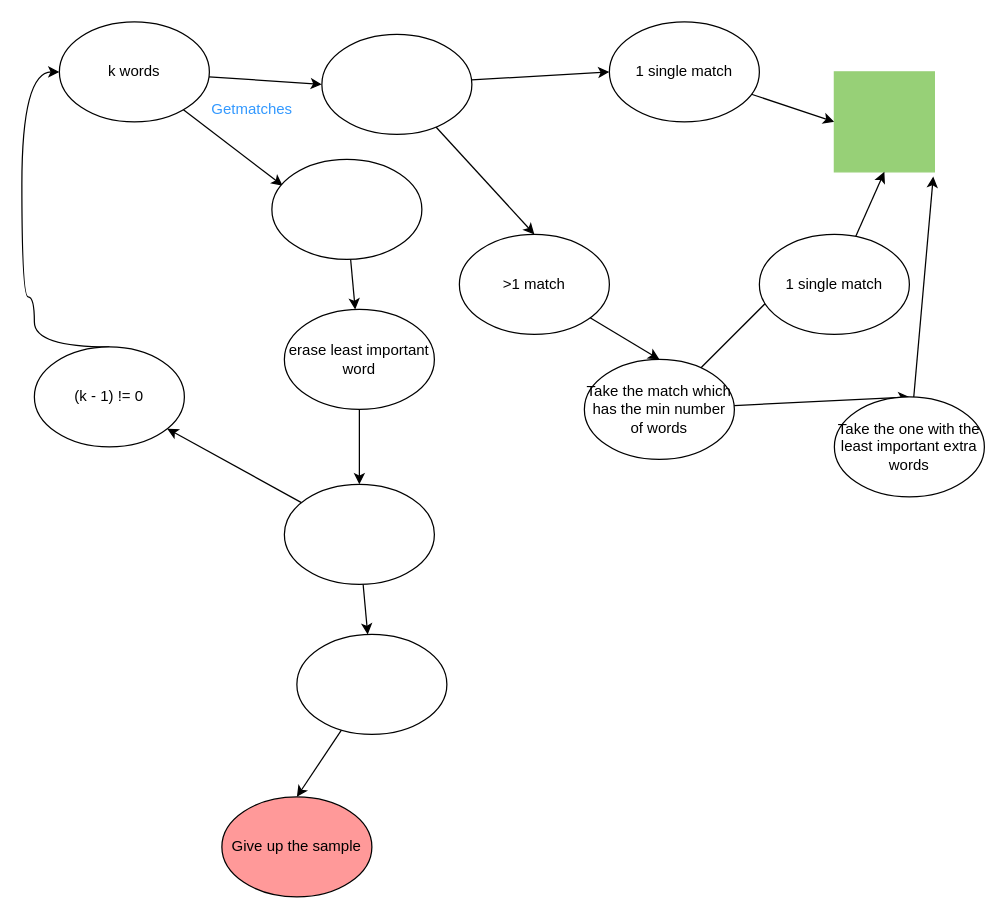
This 1006x919 diagram has some shape labels left out. Each missing label, with the centre of its shape:
(k - 1) words: (x=358, y=533)
k == 0: (x=371, y=683)
no match: (x=346, y=208)
return: (x=883, y=121)
there is a match: (x=396, y=83)
